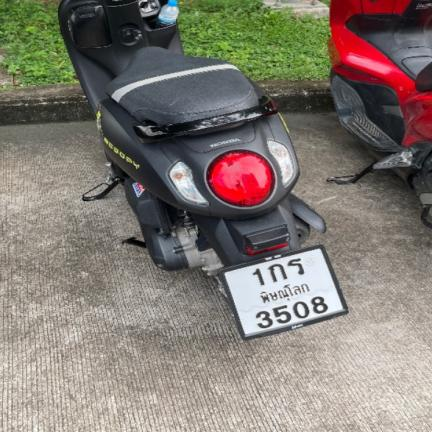0: (289, 299, 313, 320)
1: (248, 267, 266, 286)
3: (251, 309, 278, 331)
5: (270, 303, 296, 325)
8: (306, 294, 332, 315)
A01: (265, 263, 288, 282)
A35: (286, 258, 307, 276)
PLK: (253, 279, 315, 309)
